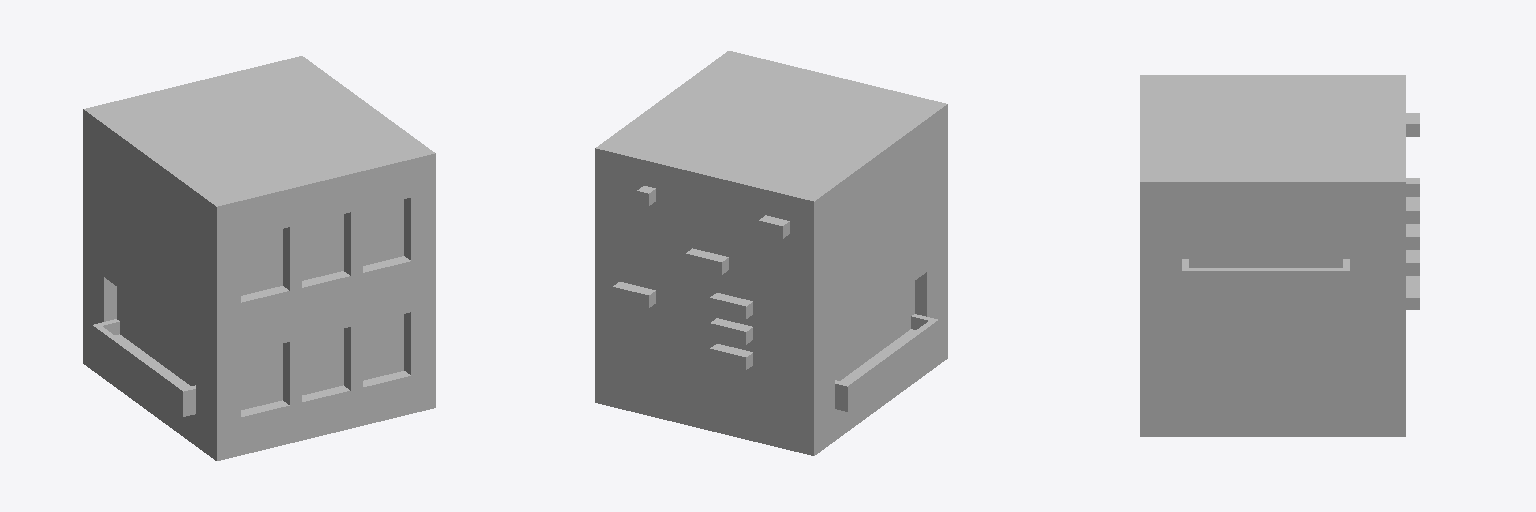
Rendered from Block 2.obj.
The picture shows the model from 3 angles: view 1: azimuth 30°, elevation 25°; view 2: azimuth 150°, elevation 25°; view 3: azimuth 270°, elevation 25°; orthographic projection.
Size of the model in its own units: 40 by 40 by 40.